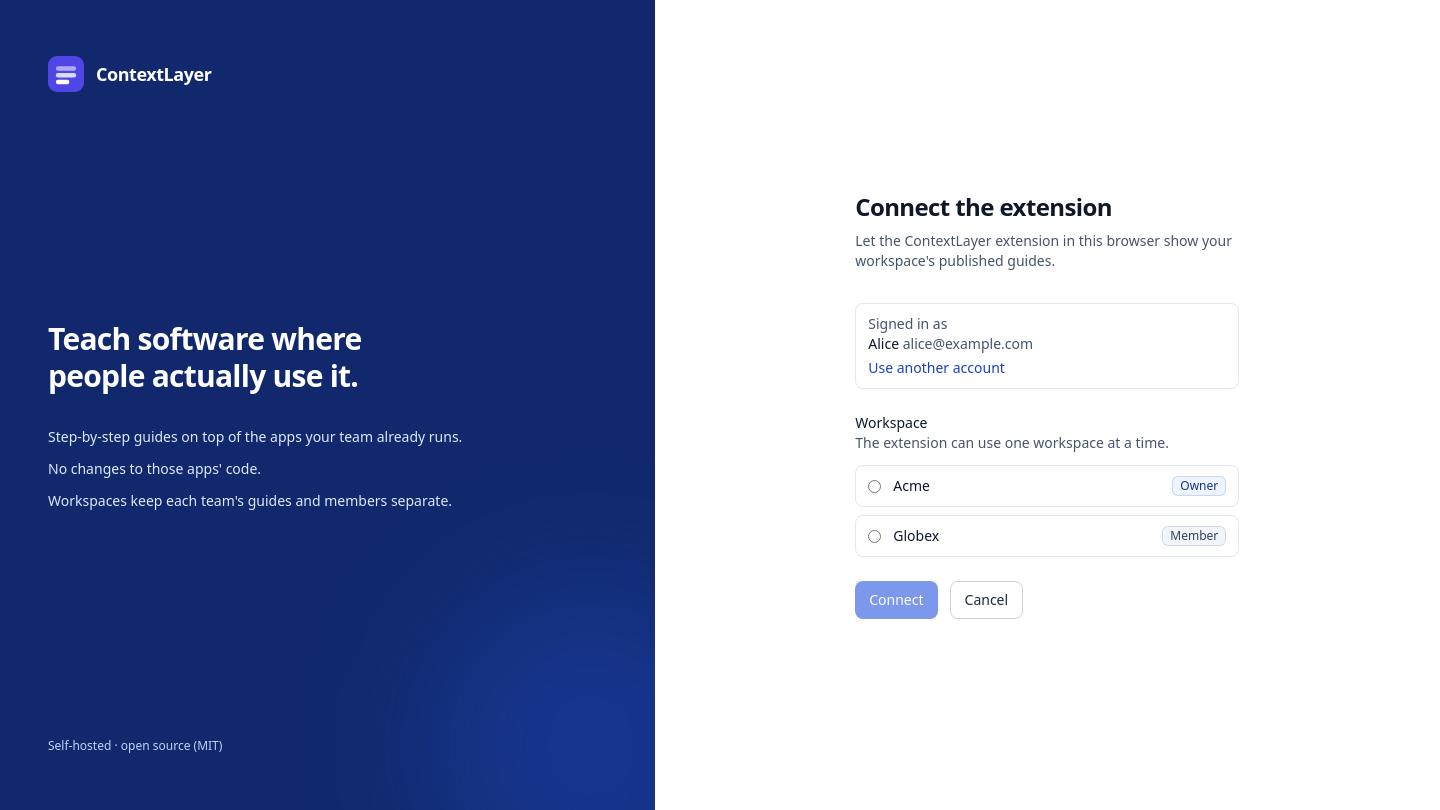
ExtensionConnectPage › shows the account and requires an explicit workspace choice
The width and height of the screenshot is (1440, 810).
Expected: the element with test id "connect-account" shows "alice@example.com", [903,334,1033,353]
Expected: the button "Connect" is disabled, [855,581,938,619]
Click the radio button labelled "Globex Member". click: [875, 536]
box: [868,530,881,542]
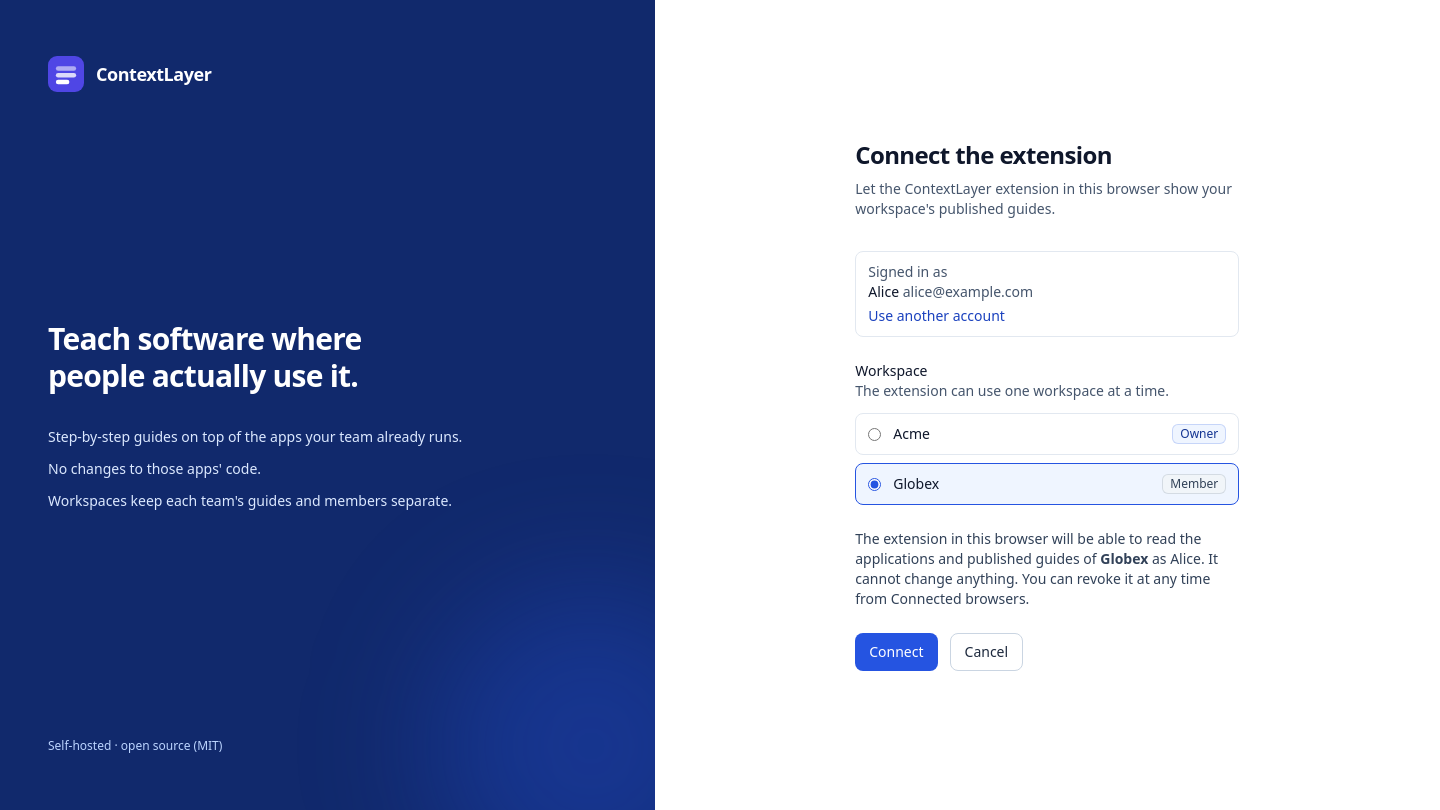
Expected: the button "Connect" is enabled, [855,633,938,671]
Expected: the element with test id "connect-summary" shows "Globex", [1100,549,1148,568]
